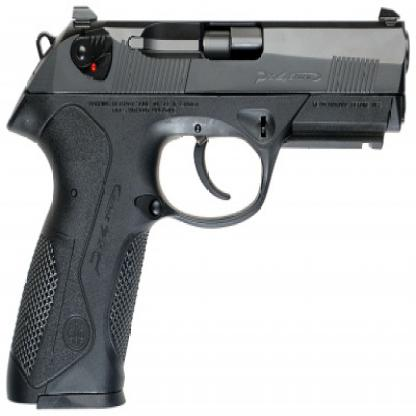Guns: (1, 3, 415, 414)
